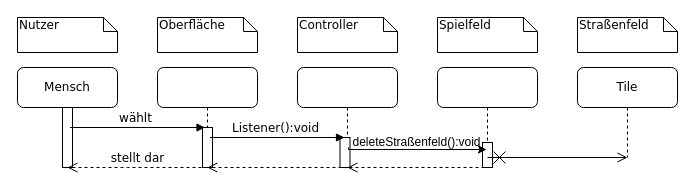
This 695x195 diagram has some shape labels left out. The centre of each missing label's shape, as x and y in pixels:
Editor: the point at 487,117
View: the point at 207,117
ViewController: the point at 347,117
